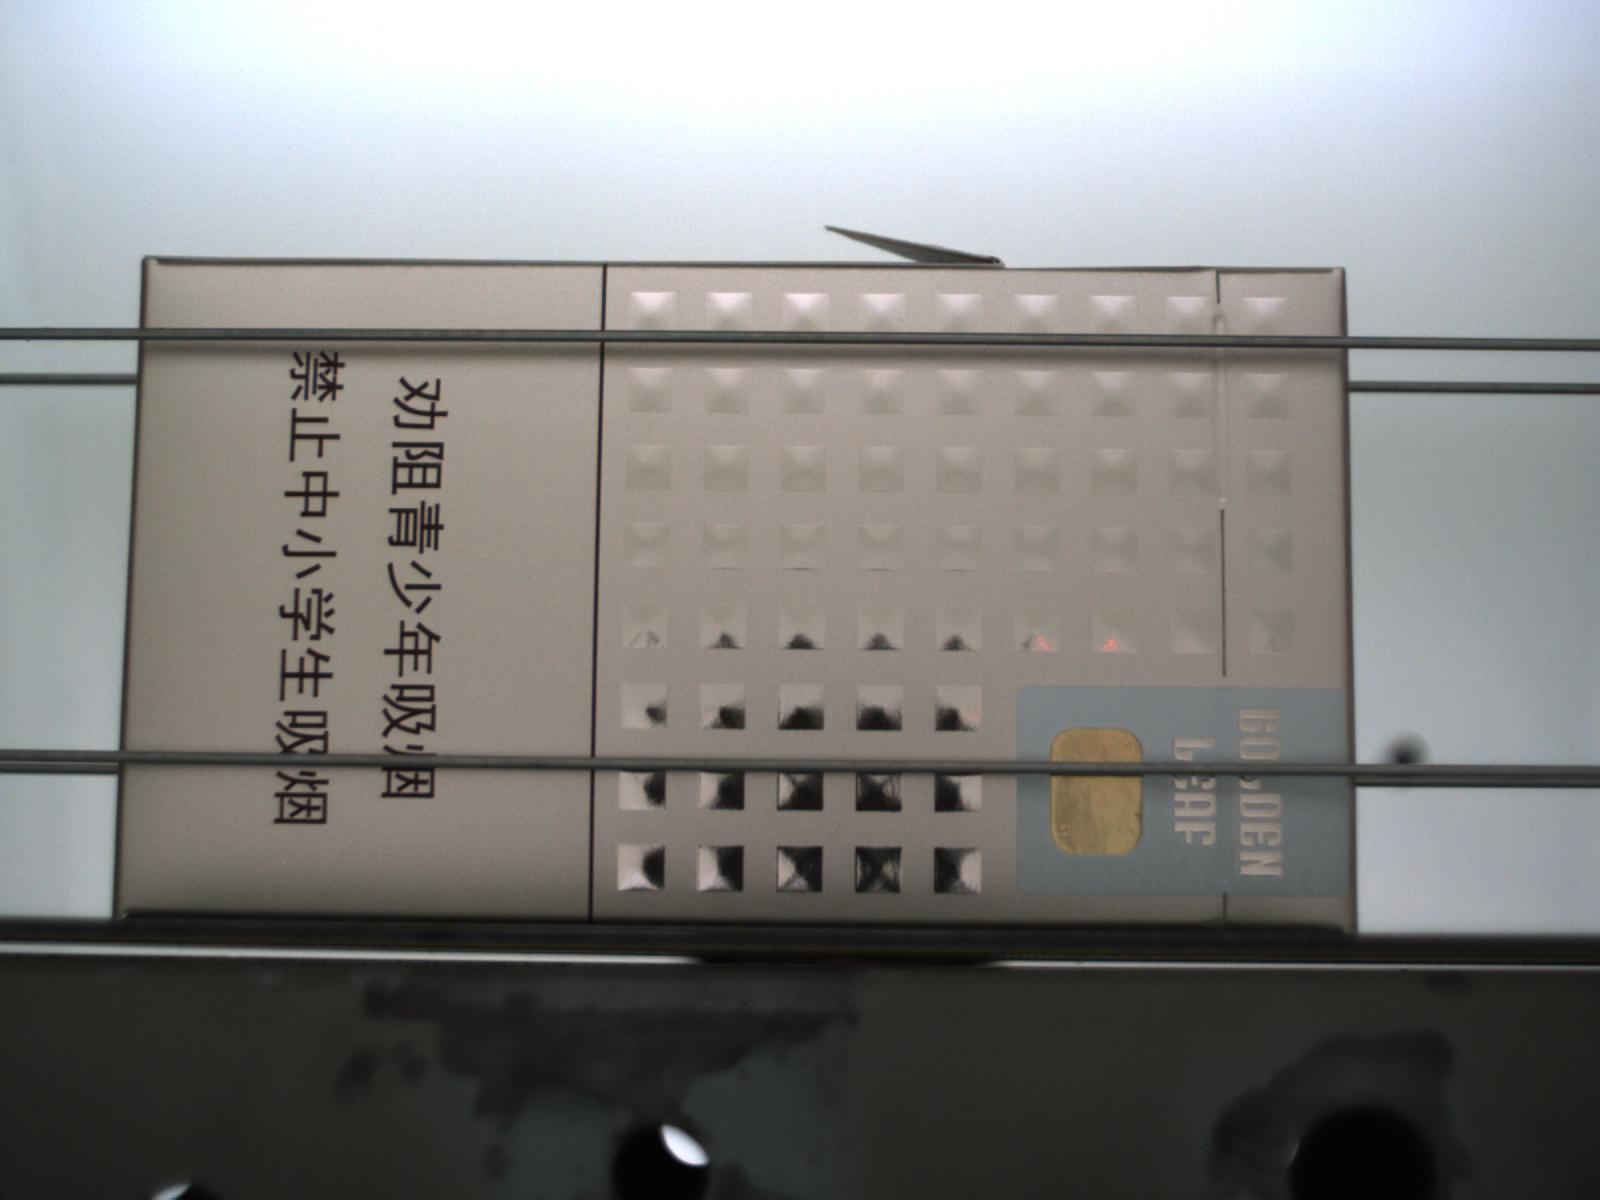outerFold_upper_01: (820, 221, 1009, 275)
